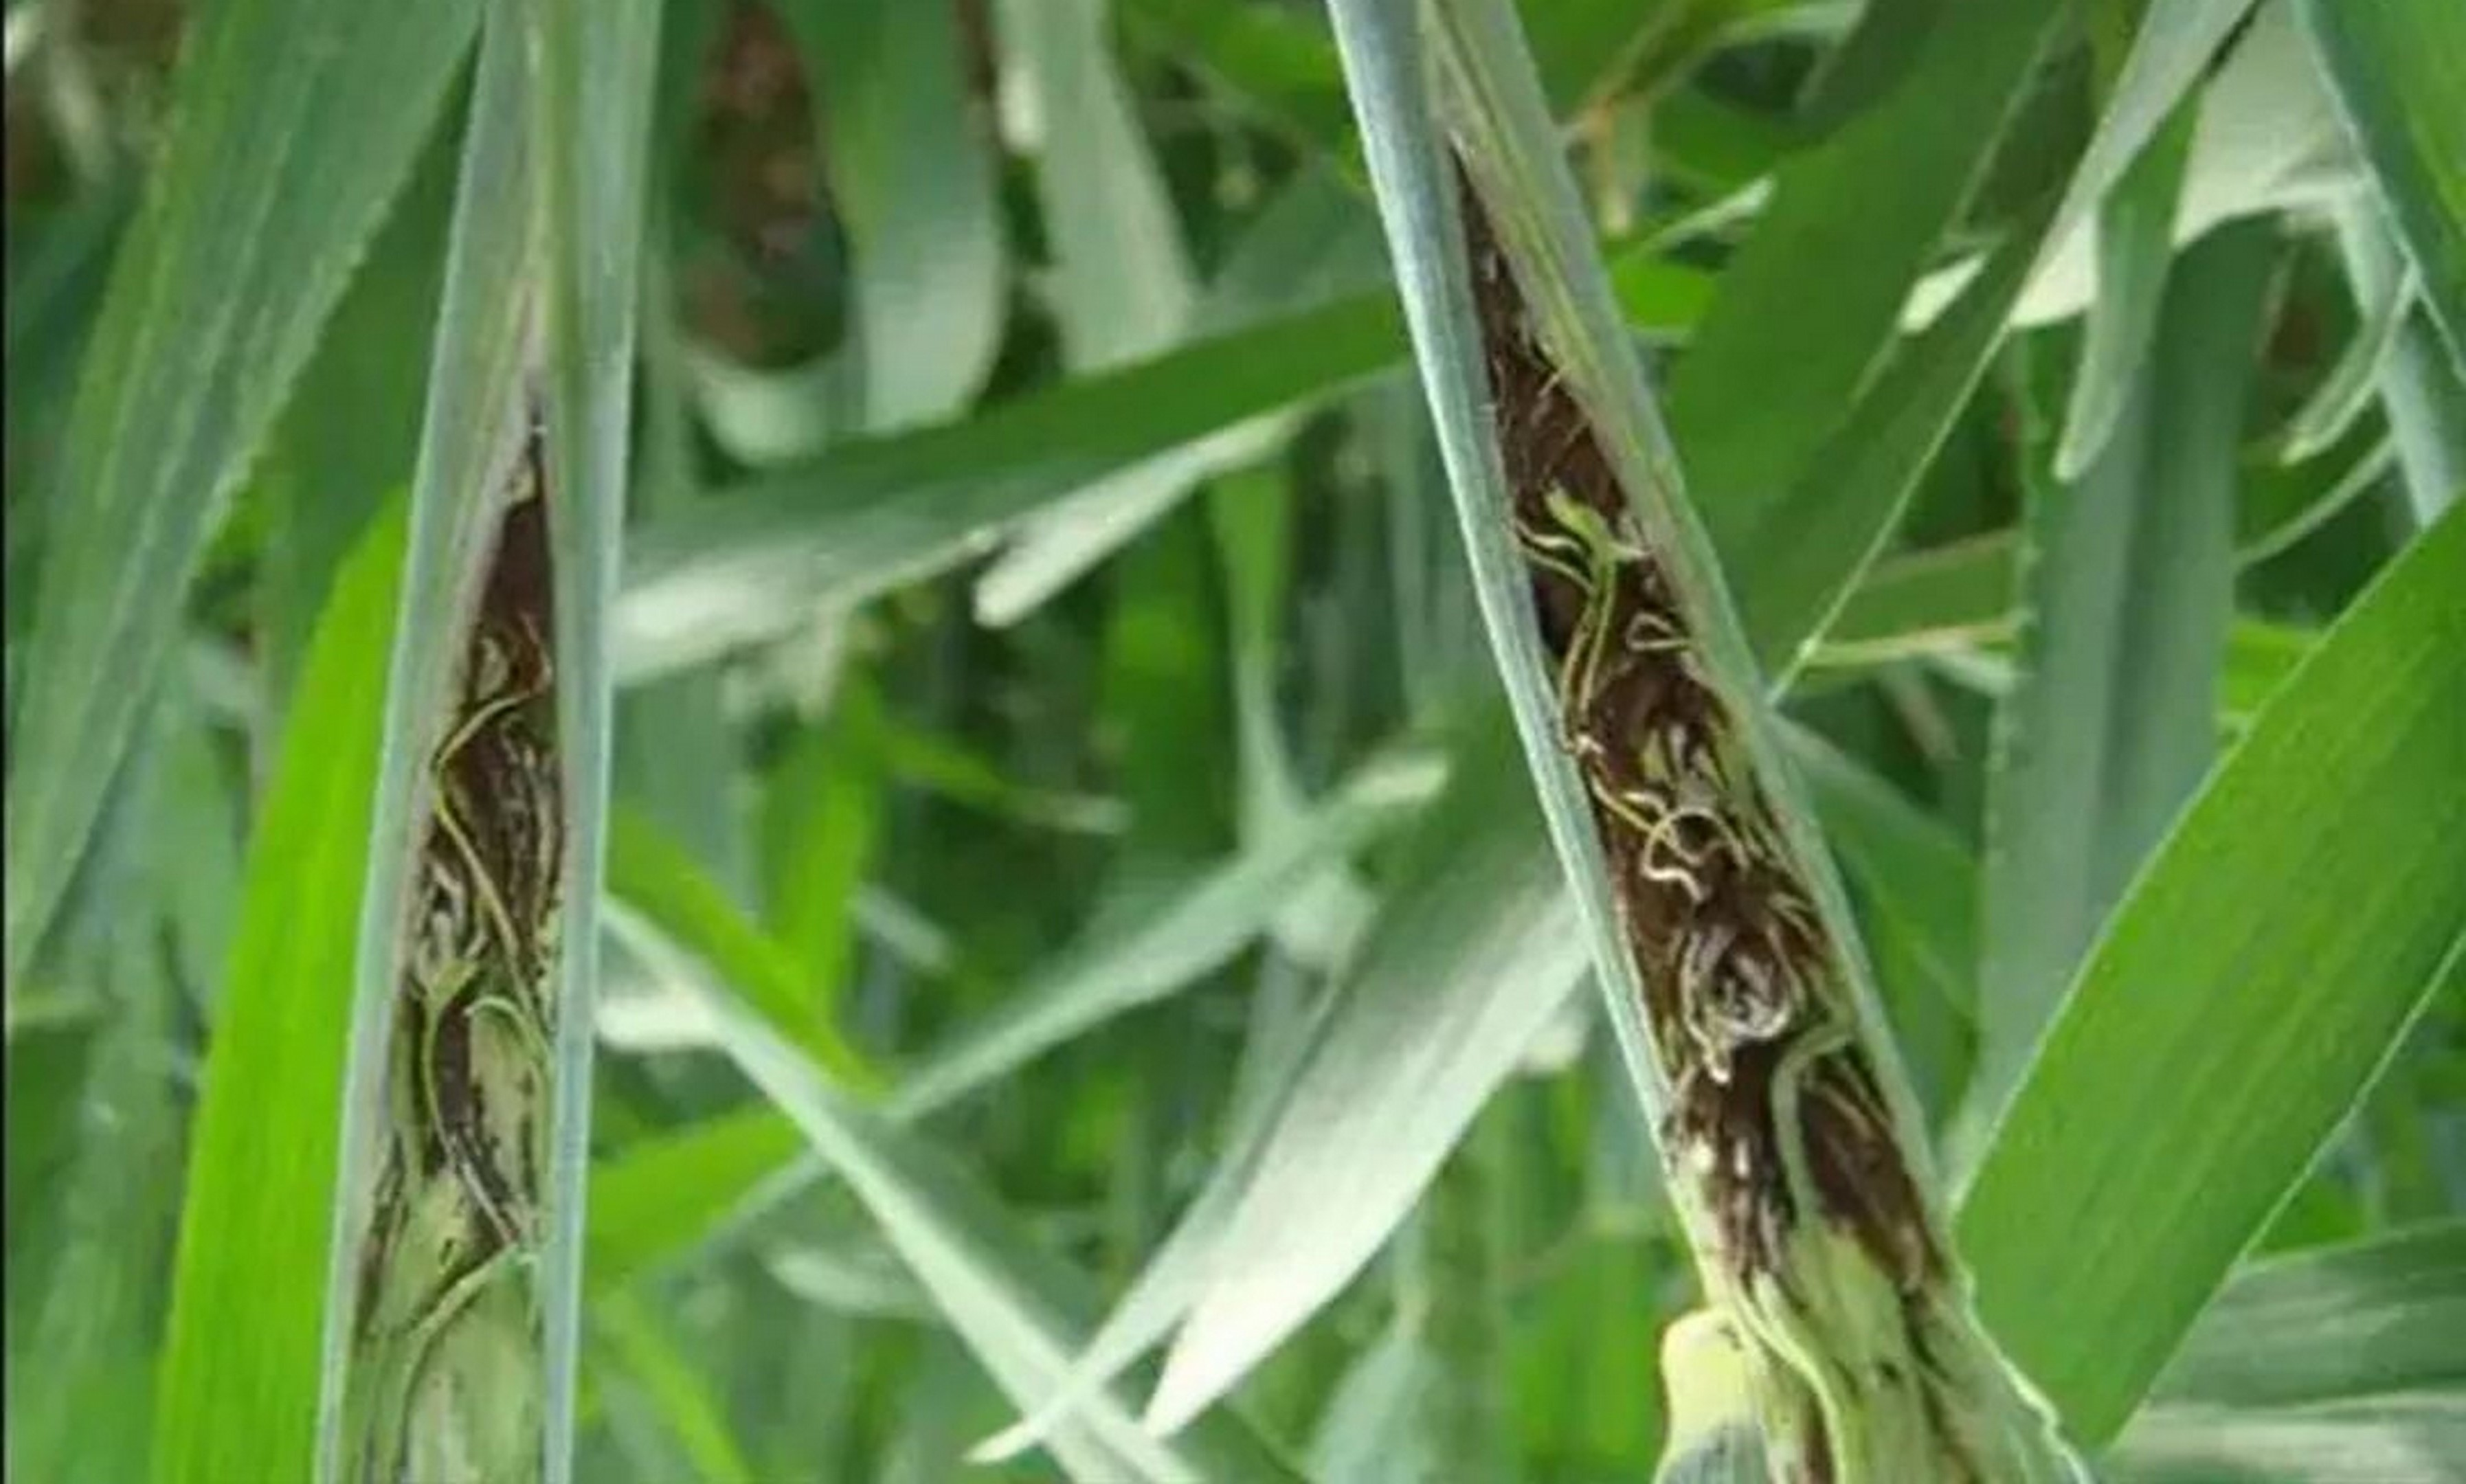Wheat Loose Smut: (1432, 296, 1920, 1299)
